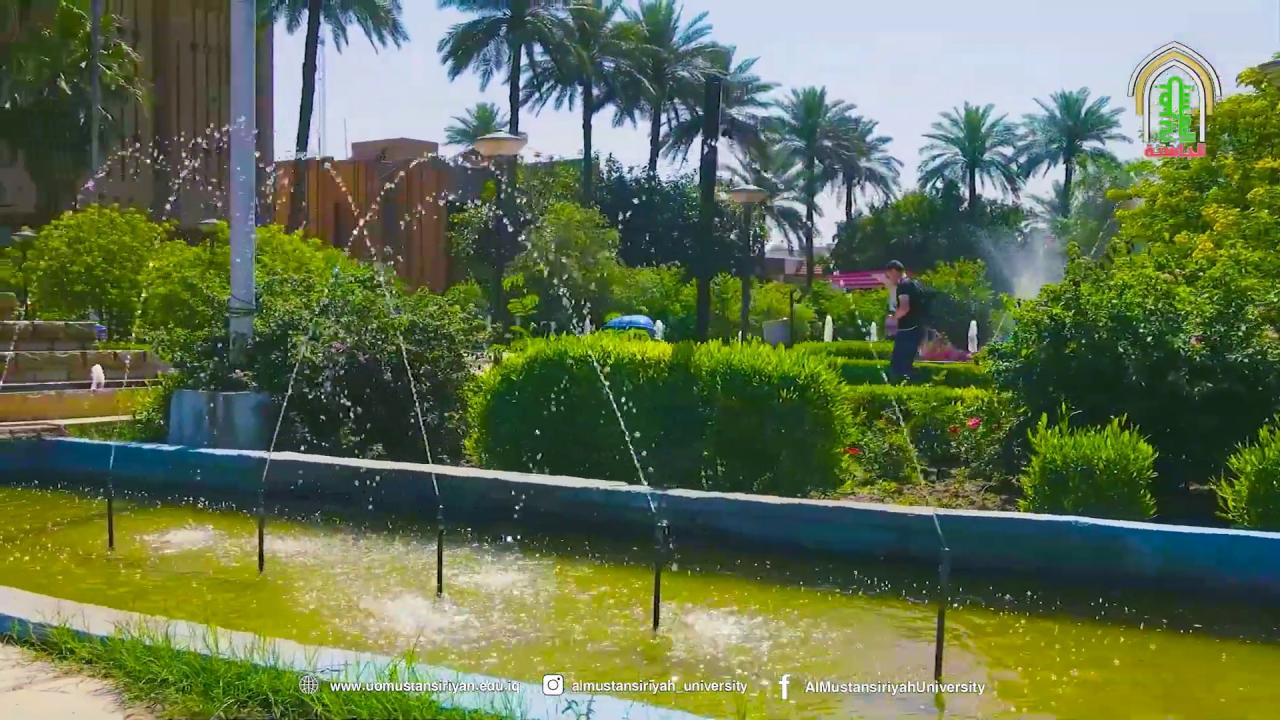fountain: (1, 429, 1278, 718)
person: (882, 260, 927, 386)
tree: (436, 0, 572, 335), (664, 44, 779, 339), (0, 0, 154, 219), (518, 1, 645, 206), (254, 0, 408, 159), (602, 0, 730, 188), (16, 199, 177, 344), (762, 83, 864, 296), (503, 197, 648, 336), (436, 0, 572, 139), (1012, 86, 1131, 233), (916, 99, 1023, 215), (824, 114, 902, 223), (725, 183, 770, 342), (443, 101, 509, 164)
